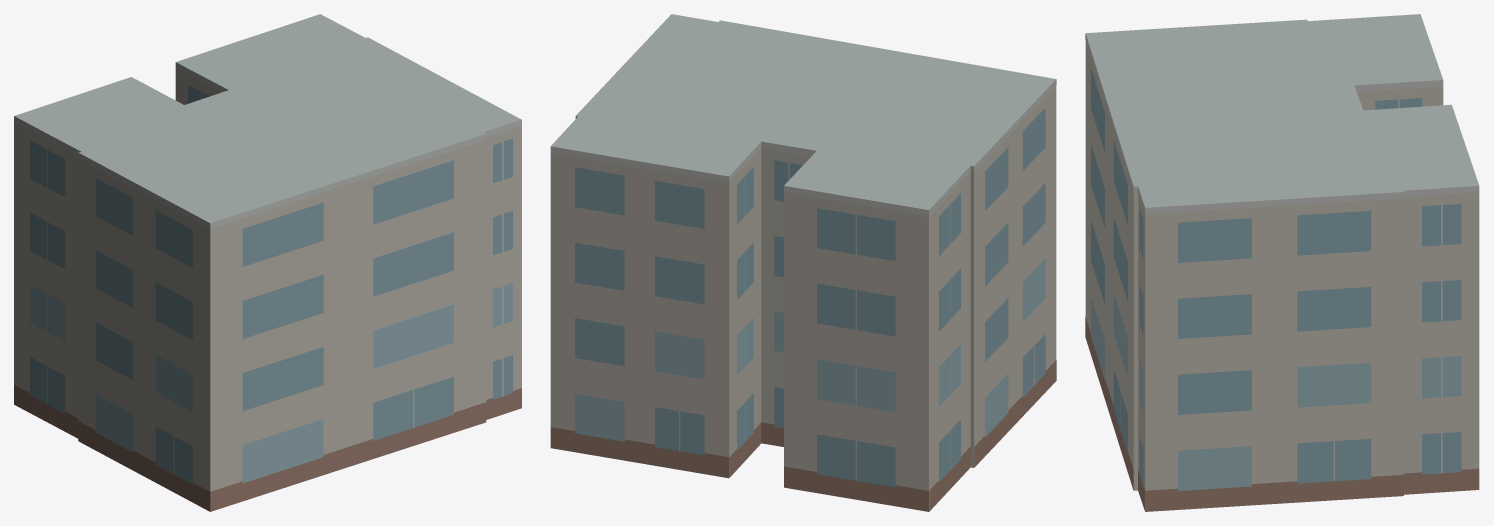
Rendered from survey-upis-32577179.glb.
3 views of the same model, side by side, from view 1: azimuth 30°, elevation 25°; view 2: azimuth 150°, elevation 25°; view 3: azimuth 270°, elevation 25° (orthographic). The views are drawn at different scales.
Visible parts, largest first — view 1: survey-upis-32577179.tmp; view 2: survey-upis-32577179.tmp; view 3: survey-upis-32577179.tmp.
Part boxes in pixels (box(x1,y1,x2,y2)): survey-upis-32577179.tmp: box(14, 14, 521, 511); survey-upis-32577179.tmp: box(550, 14, 1056, 511); survey-upis-32577179.tmp: box(1085, 14, 1479, 511).
Bounding box in the file's own units: 16.01 × 11.7 × 13.75.
